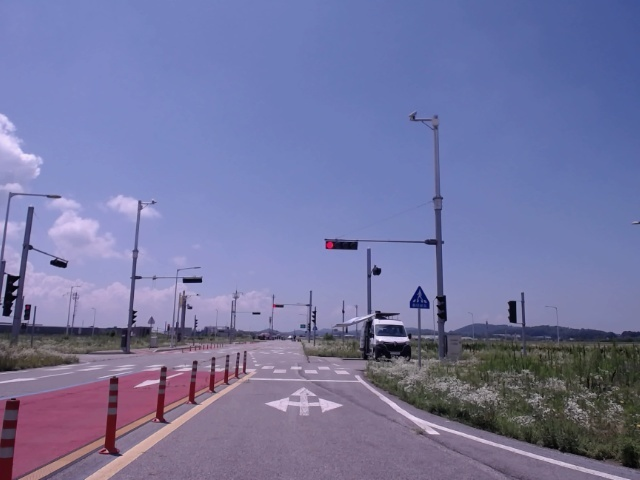red_4: (325, 239, 359, 251)
